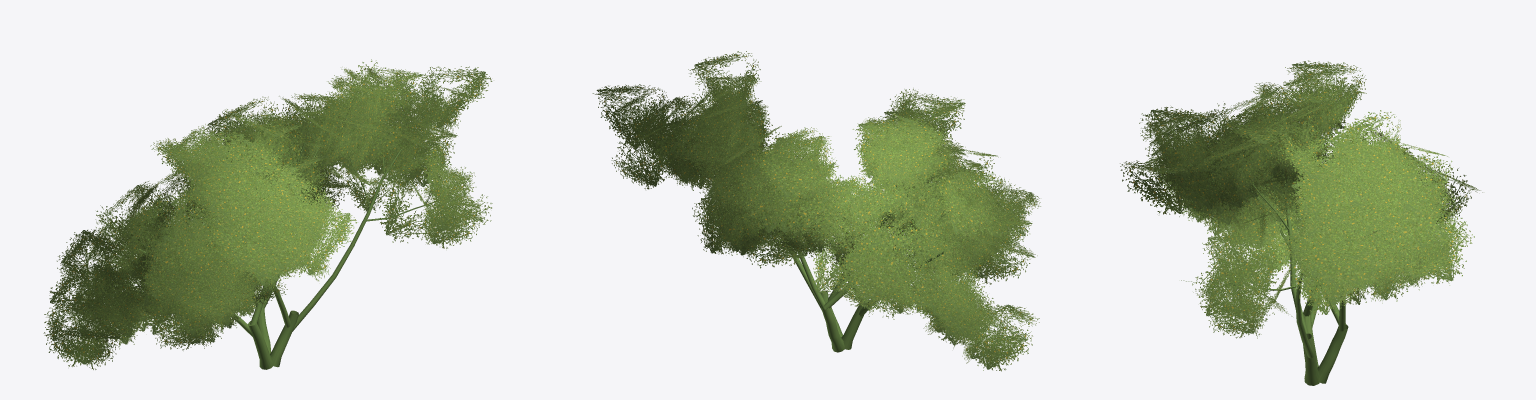
Rendered from veg_palo_verde_a.fbx.
3 renders of one model, left to right at view 1: azimuth 30°, elevation 25°; view 2: azimuth 150°, elevation 25°; view 3: azimuth 270°, elevation 25°, orthographic. The views are drawn at different scales.
Parts seen in each view (by area): view 1: veg_palo_verde_a_LOD0; view 2: veg_palo_verde_a_LOD0; view 3: veg_palo_verde_a_LOD0.
Boxes of the visible parts, box(x1,y1,x2,y2) form: veg_palo_verde_a_LOD0: box(43, 59, 492, 369); veg_palo_verde_a_LOD0: box(592, 51, 1040, 371); veg_palo_verde_a_LOD0: box(1120, 60, 1482, 385).
Size of what is drawn, in the model's own units: 8.18 by 5.37 by 5.84.
Materials: 2 (2 with a texture image).
